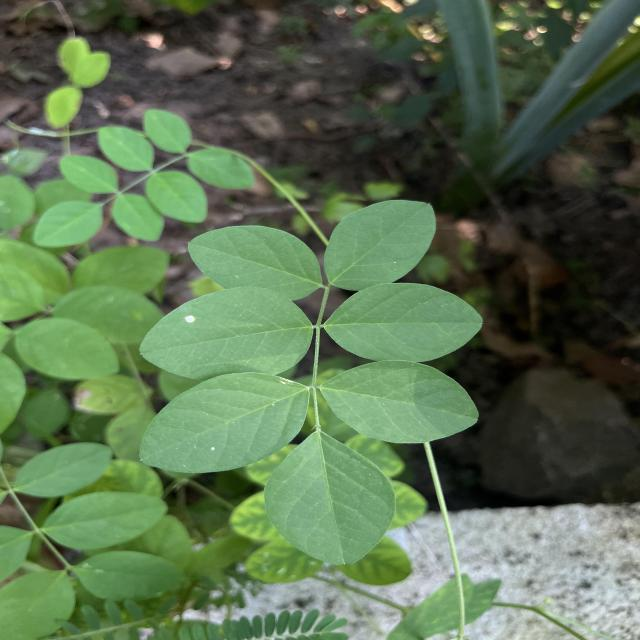Clitoria ternatea: (263, 430, 398, 567), (138, 371, 310, 475), (138, 284, 314, 383), (318, 358, 480, 445), (326, 281, 486, 364), (323, 198, 439, 292), (187, 223, 324, 300)
